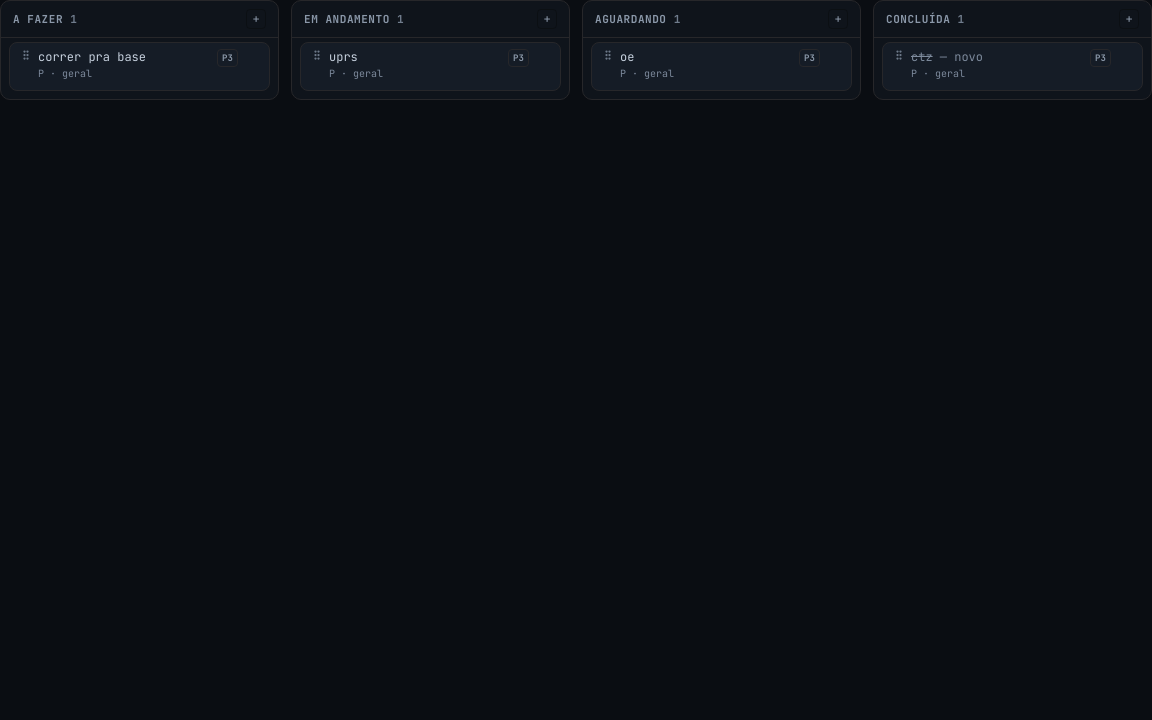
Test: Kanban › botão + da coluna abre modal de criação com status fixo
Step 1. Click the button named "nova tarefa em a fazer" → (256, 19), box [246, 9, 266, 29]
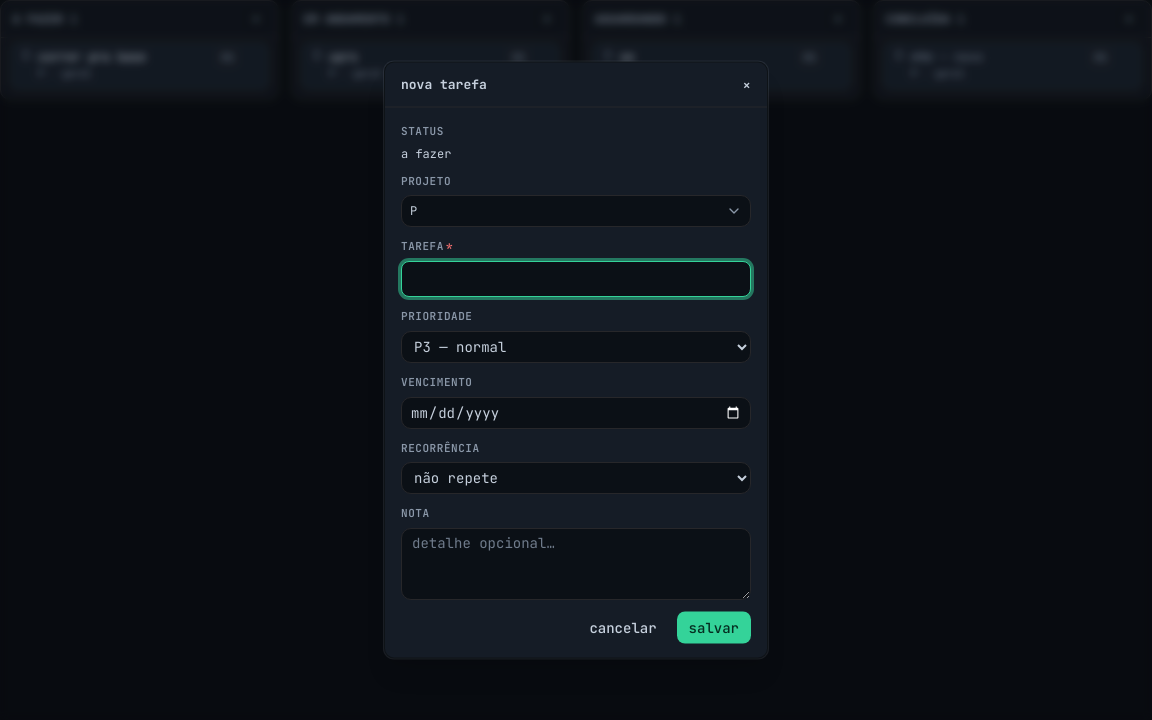
expect the text "a fazer" is shown: met, box [401, 145, 451, 161]
